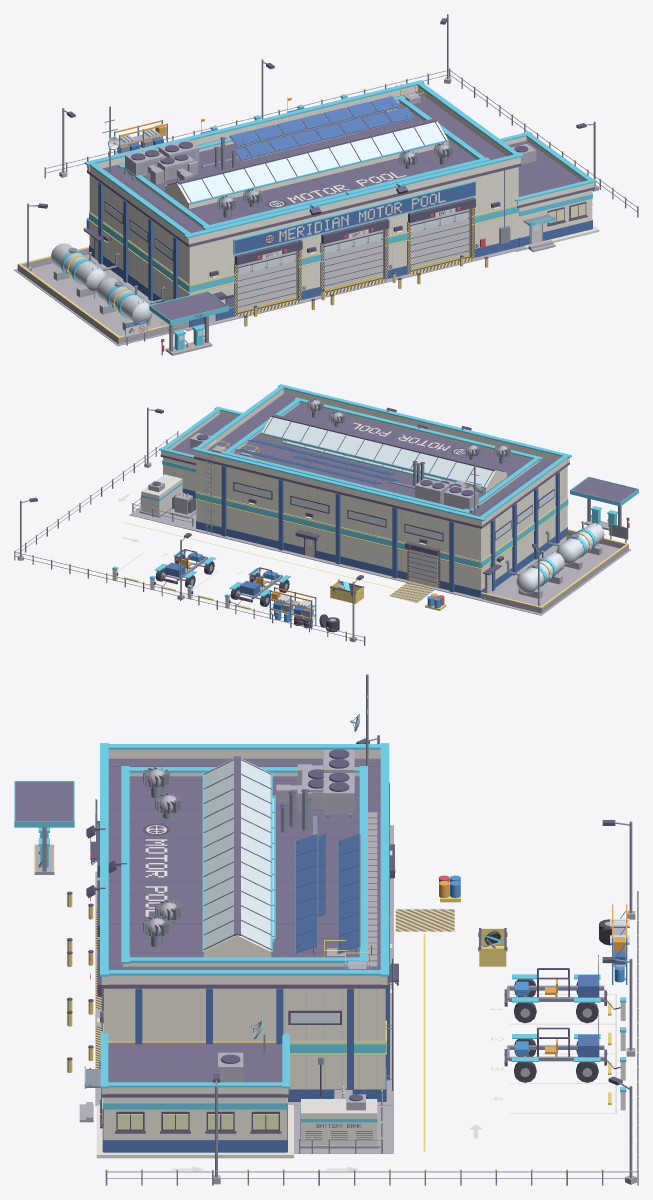
File: garage.glb
The picture shows the model from 3 angles, top to bottom: view 1: azimuth 30°, elevation 25°; view 2: azimuth 150°, elevation 25°; view 3: azimuth 270°, elevation 25°; orthographic projection. The views are drawn at different scales.
Visible parts, largest first — view 1: garage_walls, garage_roof, garage_monitorGlass, garage_parapet, garage_cap, garage_solarPanels, garage_board, gs_cap, garage_door1closed, garage_door0closed, garage_yardSlab, garage_door2closed (+35 smaller); view 2: garage_walls, garage_roof, garage_parapet, garage_monitorGlass, garage_cap, garage_pilasters, garage_yardSlab, gs_cap, garage_base, garage_band, garage_railing, garage_highGlass (+37 smaller); view 3: garage_roof, garage_walls, garage_monitorGlass, garage_cap, garage_officeRoof, garage_office, gs_cap, garage_parapet, garage_solarPanels, garage_railing, garage_power_white1, garage_pilasters (+30 smaller).
Boxes of the visible parts, box(x1,y1,x2,y2) form: garage_walls: box(89, 167, 518, 307); garage_roof: box(87, 91, 521, 247); garage_monitorGlass: box(181, 122, 444, 201); garage_parapet: box(87, 85, 520, 244); garage_cap: box(84, 80, 523, 238); garage_solarPanels: box(230, 96, 414, 157); garage_board: box(235, 182, 474, 253); gs_cap: box(118, 95, 490, 229); garage_door1closed: box(324, 230, 382, 288); garage_door0closed: box(237, 252, 296, 309); garage_yardSlab: box(14, 258, 185, 346); garage_door2closed: box(410, 210, 469, 267); garage_walls: box(196, 459, 567, 590); garage_roof: box(194, 394, 569, 528); garage_parapet: box(194, 388, 569, 526); garage_monitorGlass: box(264, 417, 492, 486); garage_cap: box(192, 384, 571, 521); garage_pilasters: box(221, 465, 559, 592); garage_yardSlab: box(129, 501, 631, 615); gs_cap: box(221, 397, 542, 513); garage_base: box(196, 521, 567, 597); garage_band: box(195, 493, 568, 567); garage_railing: box(14, 432, 365, 645); garage_highGlass: box(234, 483, 554, 540); garage_roof: box(101, 758, 388, 988); garage_walls: box(103, 988, 385, 1089); garage_monitorGlass: box(204, 760, 270, 948); garage_cap: box(100, 743, 389, 976); garage_officeRoof: box(101, 1043, 289, 1097); garage_office: box(96, 1097, 293, 1158); gs_cap: box(121, 766, 367, 963); garage_parapet: box(102, 749, 387, 984); garage_solarPanels: box(296, 834, 359, 952); garage_railing: box(105, 892, 638, 1185); garage_power_white1: box(301, 1099, 377, 1144); garage_pilasters: box(135, 782, 389, 1094).
Bounding box in the file's own units: 60.36 × 16.67 × 44.33.
